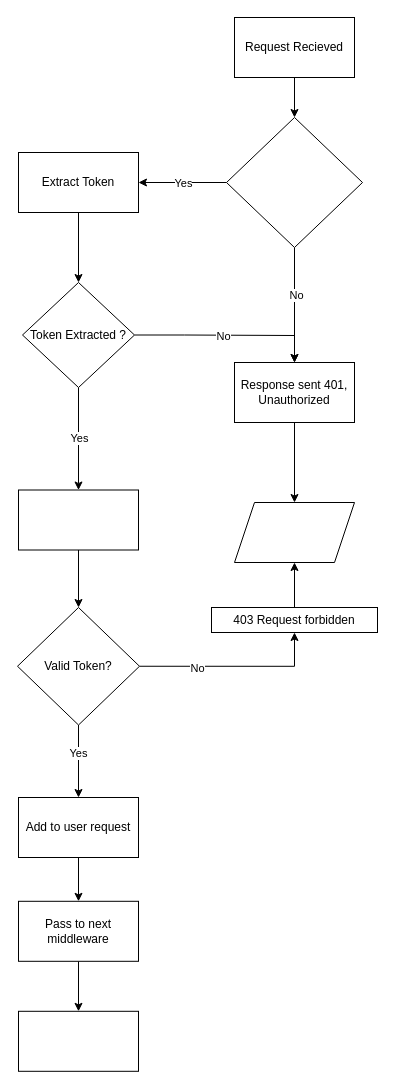
Some shapes in this 395 by 1089 pixel diagram are drawn without their labels. The box of each missing label's shape, as (x1, y1, x2, y2) in pixels:
Authorization token available ?: (226, 116, 362, 248)
Continue to route handler: (18, 1010, 138, 1071)
End Request: (234, 502, 354, 562)
Valid Token: (18, 489, 138, 550)
